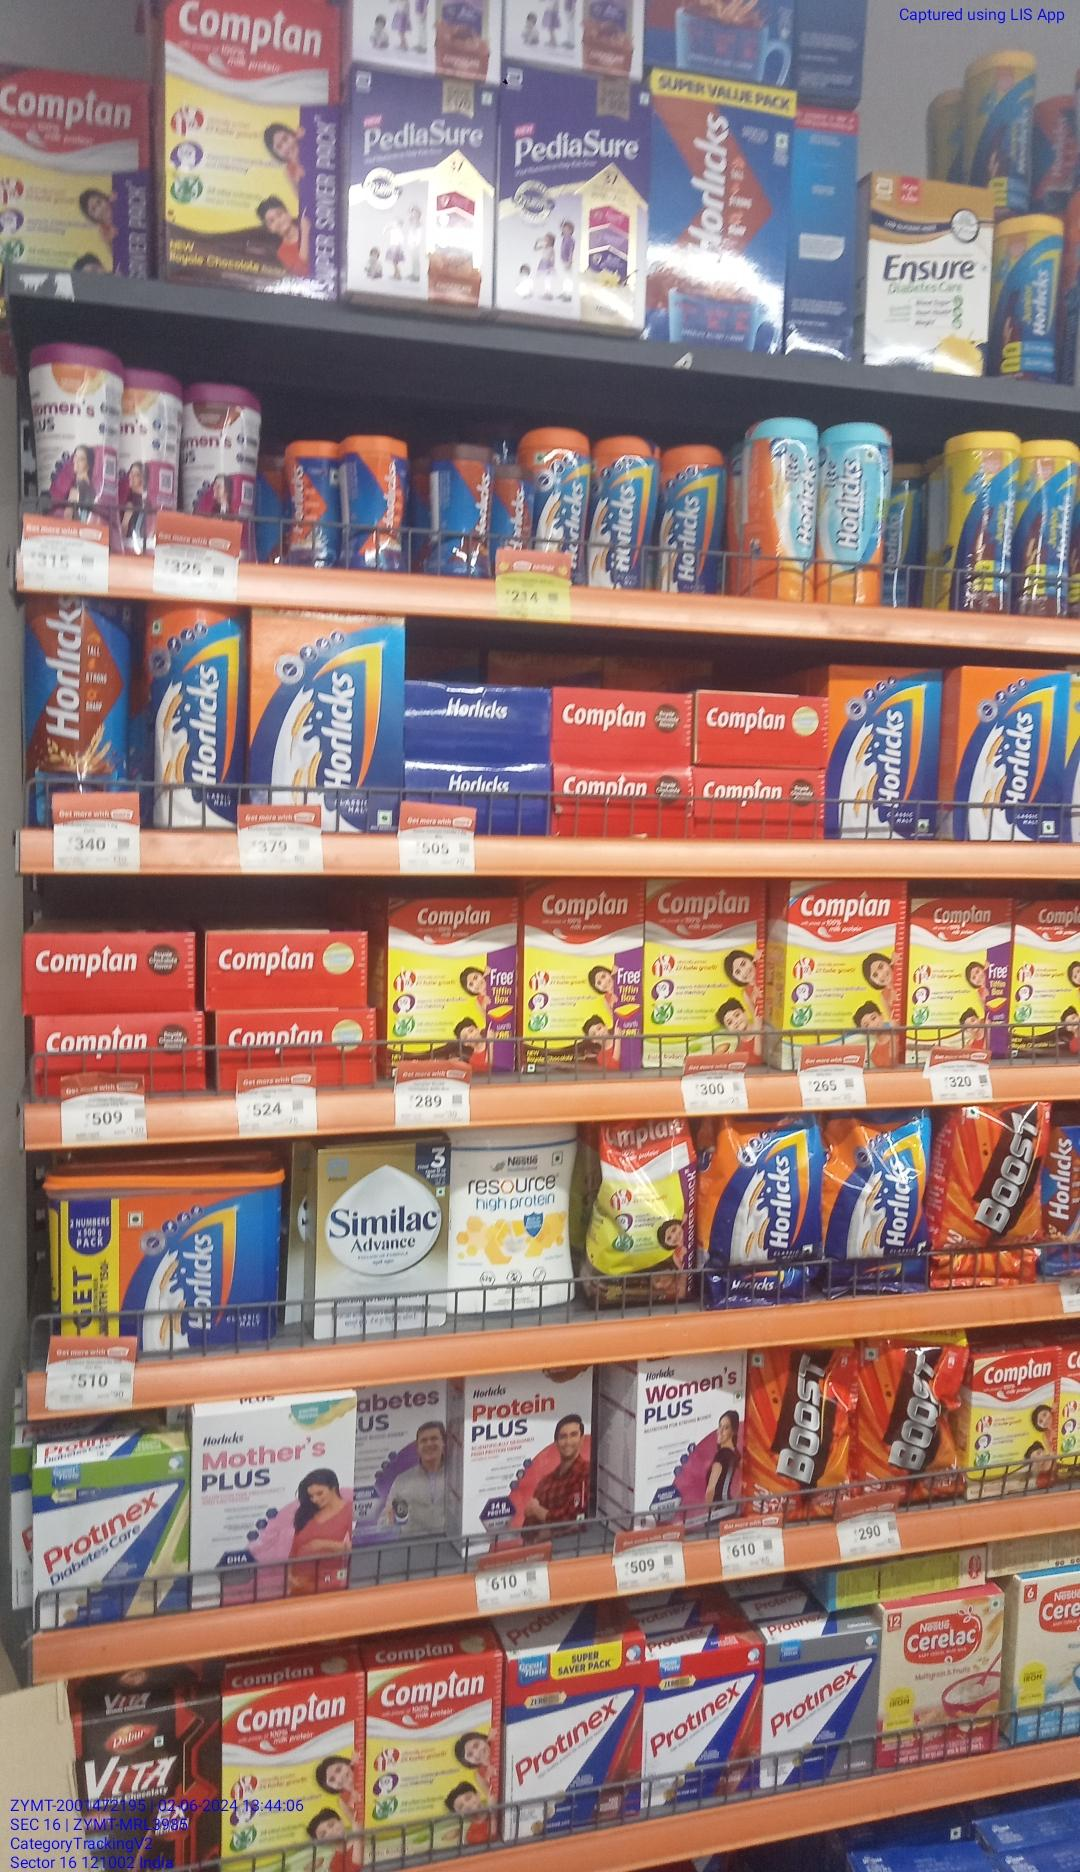HORLICKS_LITE_REGULAR_MALT_500_GM_JAR: (748, 422, 815, 599), (823, 428, 885, 595)
HORLICK_CLASSIC_MALT_500_G_JAR: (527, 433, 589, 585), (593, 440, 652, 594), (662, 440, 715, 597)
HORLICK_MALT_1_KG_CONTAINER: (45, 1170, 284, 1341)
PEDIASURE_CHOCOLATE_500_G_PACK: (339, 82, 495, 301)
PEDIASURE_VANILLA_500_G_PACK: (504, 76, 656, 329)
